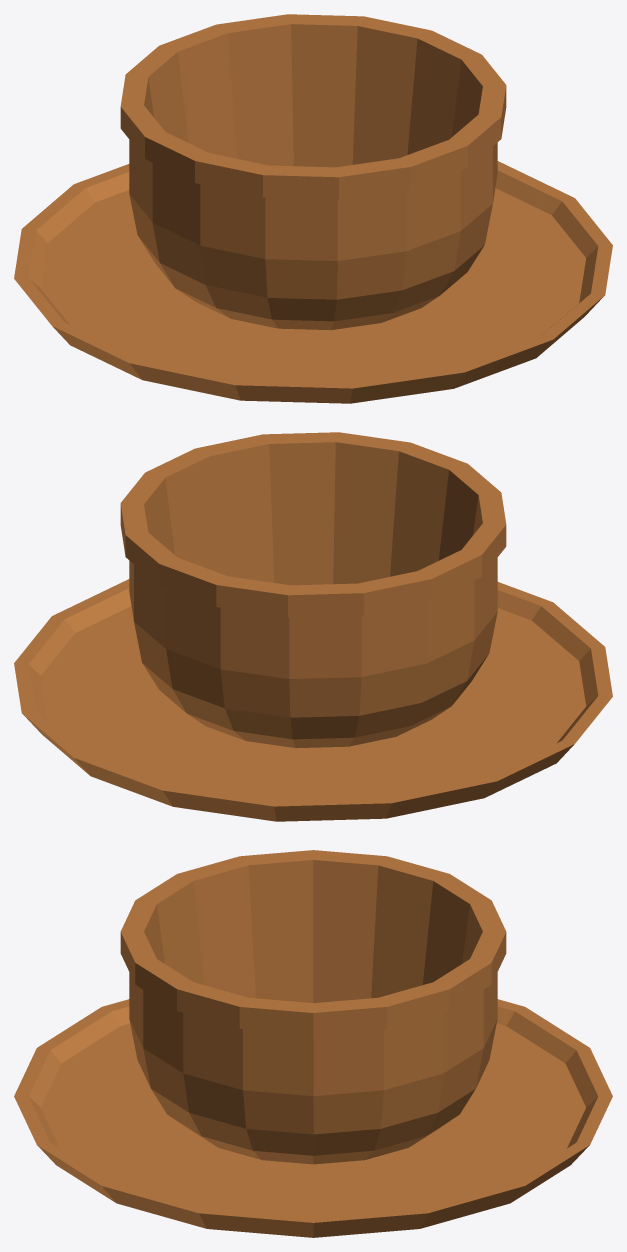
File: Pot_Small.fbx
3 views of the same model, one above another, from view 1: azimuth 30°, elevation 25°; view 2: azimuth 150°, elevation 25°; view 3: azimuth 270°, elevation 25° (orthographic).
Parts seen in each view (by area): view 1: Pot_Small; view 2: Pot_Small; view 3: Pot_Small.
Boxes of the visible parts, x1,y1,x2,y2 form: Pot_Small: [14, 14, 612, 403]; Pot_Small: [14, 432, 612, 821]; Pot_Small: [14, 850, 612, 1237].
Bounding box in the file's own units: 51.31 × 17.83 × 51.31.
